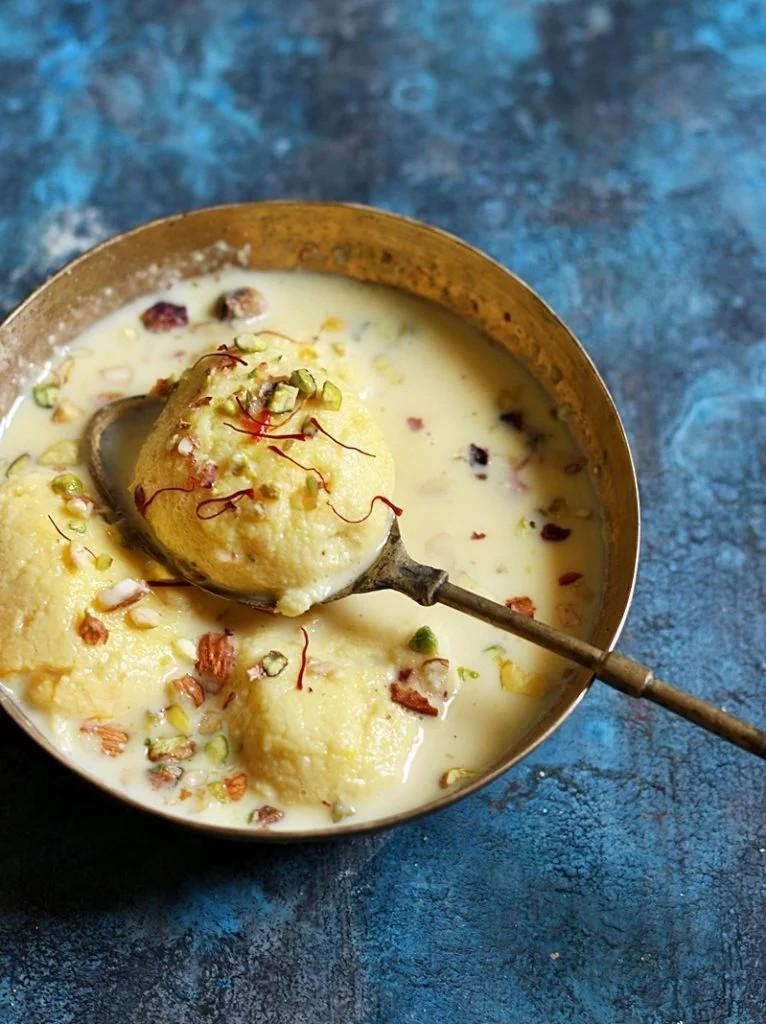RasMalai: (0, 264, 597, 821)
